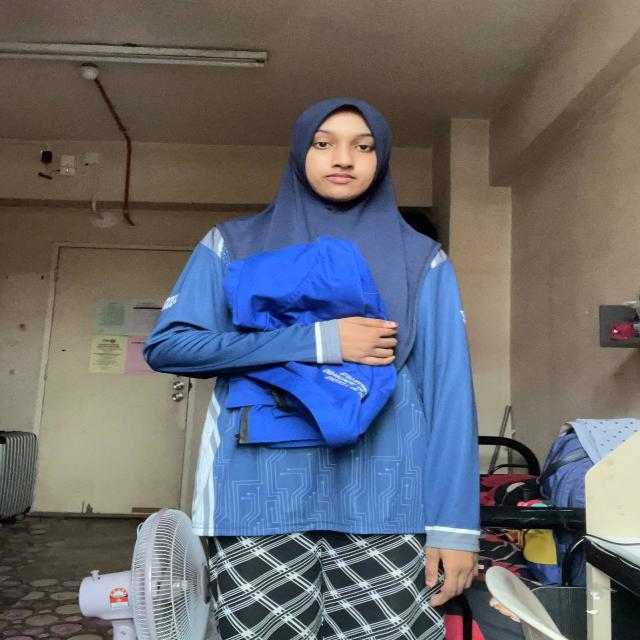person_without_labcoat: (143, 98, 478, 640)
